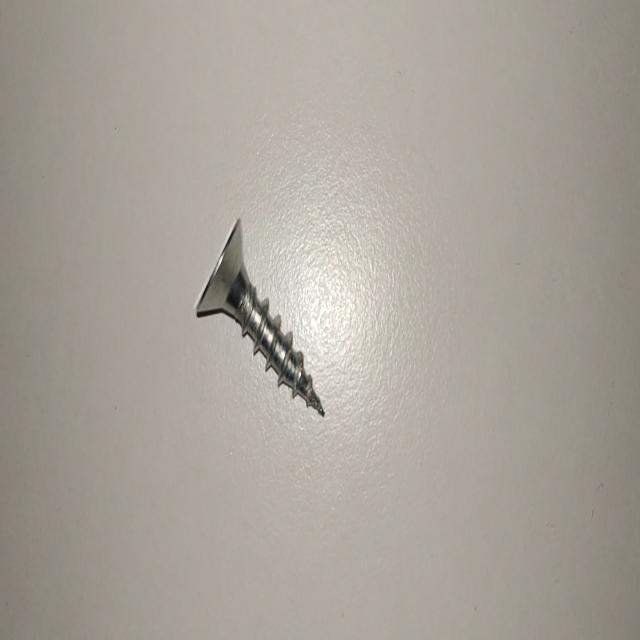Screw: (195, 217, 324, 416)
